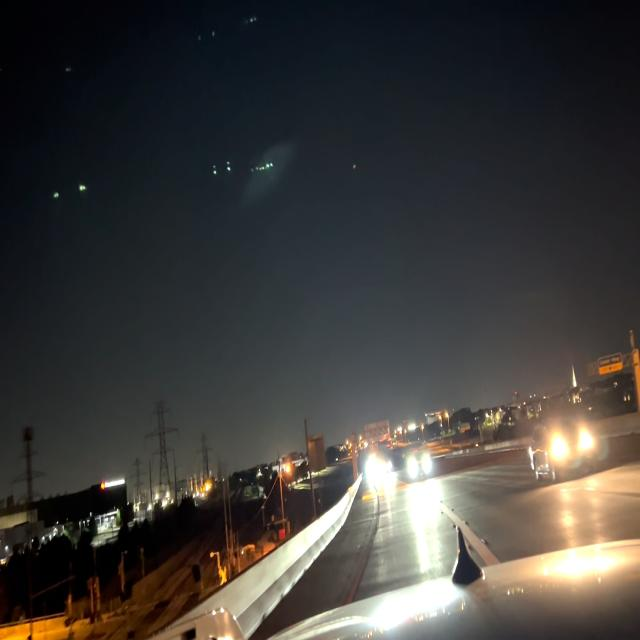back-of-sign: (309, 436, 326, 475)
